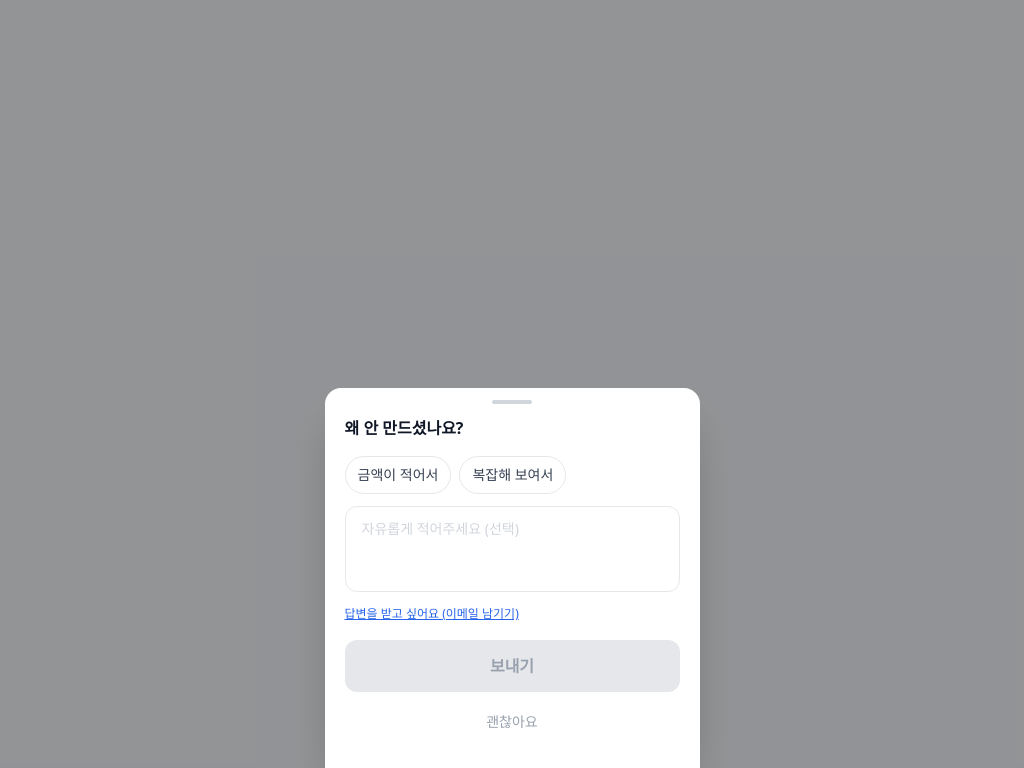
Test: FeedbackSheet › 이메일 입력창은 기본으로 숨어 있다 — 처음부터 보이면 마찰이 된다
expect the field with placeholder "hong@example.com" is not shown: met
Click the button "답변을 받고 싶어요 (이메일 남기기)": (432, 614) [344,606,519,622]
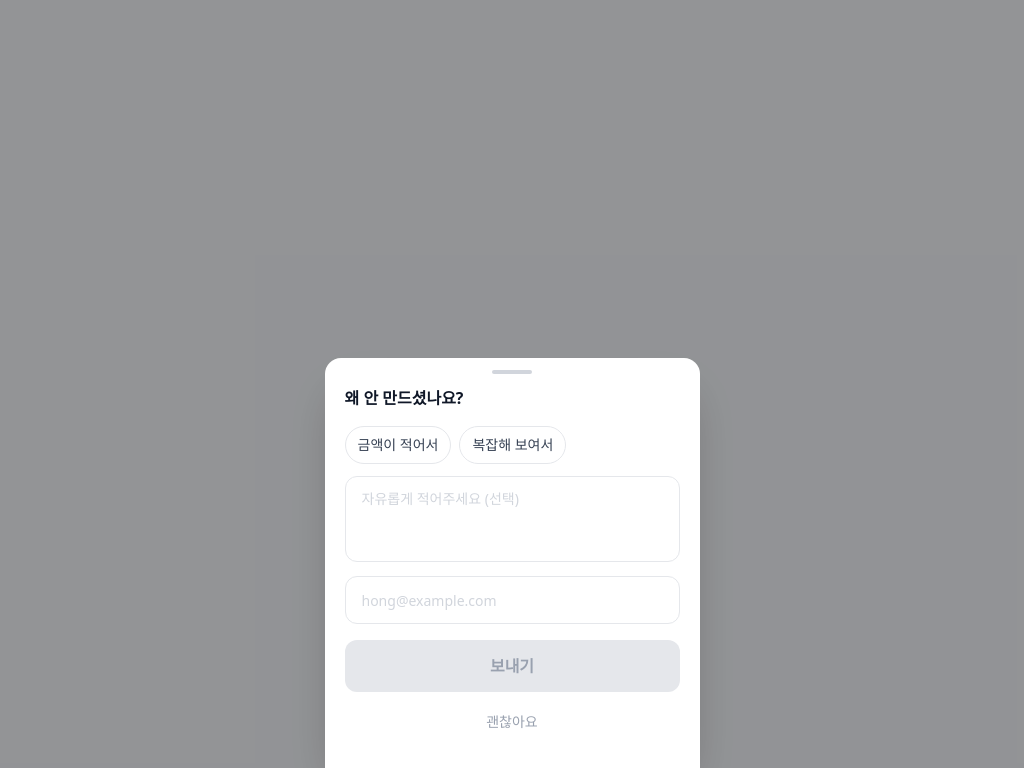
expect the field with placeholder "hong@example.com" is shown: met, box [344,576,680,624]
